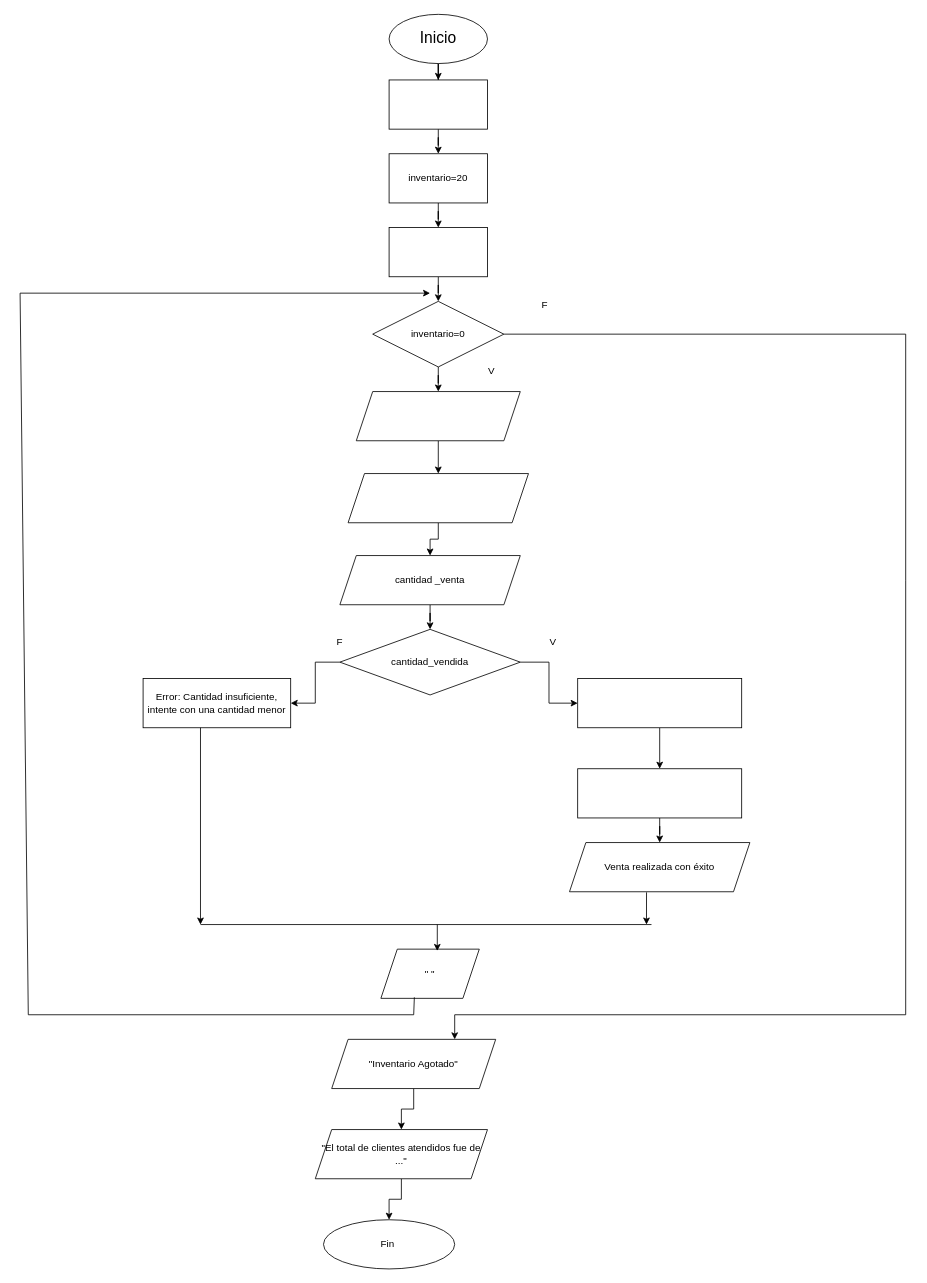
Some shapes in this 927 by 1283 pixel diagram are drawn without their labels. Here are the shapes that lost their labels. From the top down, the centre of each, then its label:
pixel 437 104: Definir inventario cantidad_venta cilentes_atendidos Como entero
pixel 437 252: clientes_atendidos=0
pixel 437 416: Inventario disponible, inventario, cajas
pixel 437 498: Ingrese la cantidad de cajas para esta venta
pixel 659 703: Inventario=inventario-cantidad_venta
pixel 659 793: clientes_atendidos=clientes_atendidos
